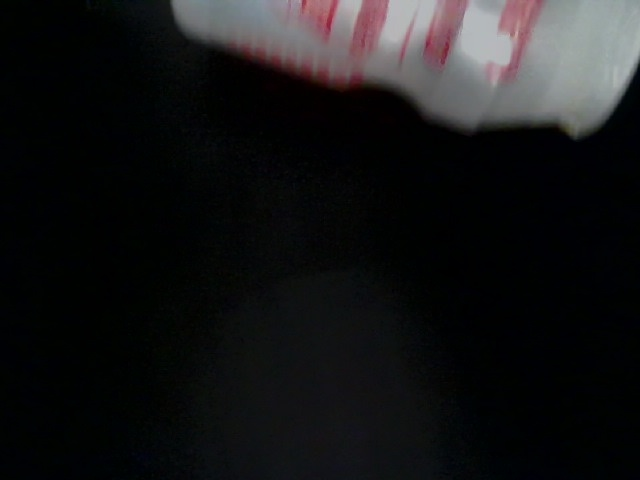CYLJ: (264, 370, 616, 480)
